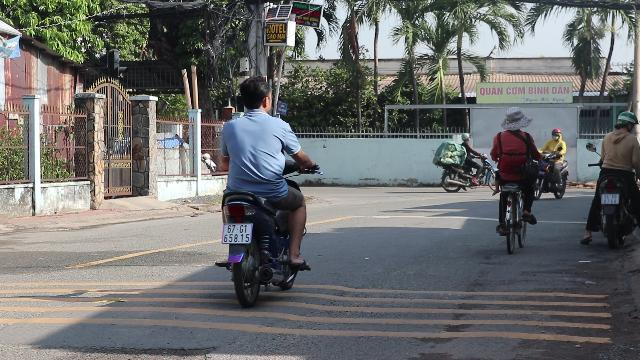helmet: (612, 111, 638, 133)
licenseplate: (222, 223, 252, 243), (602, 194, 618, 204)
motorcyclist: (209, 77, 315, 304), (584, 110, 640, 246)
nohelmet: (236, 76, 274, 114)
